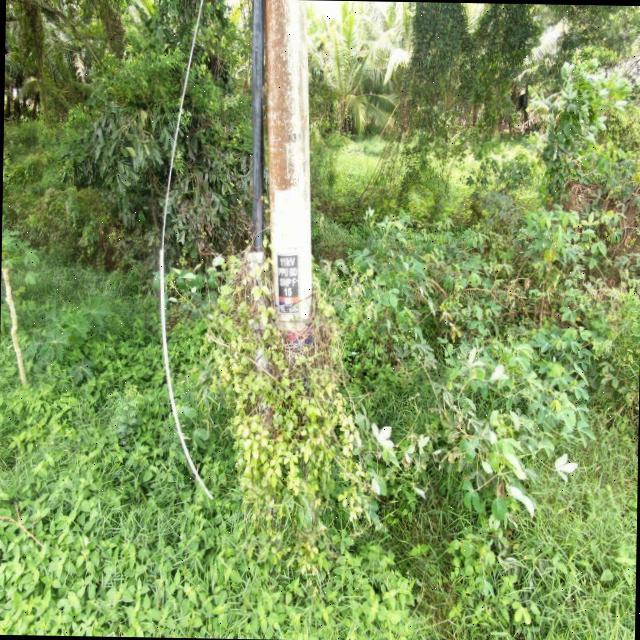critical vegetation: (206, 231, 344, 587)
